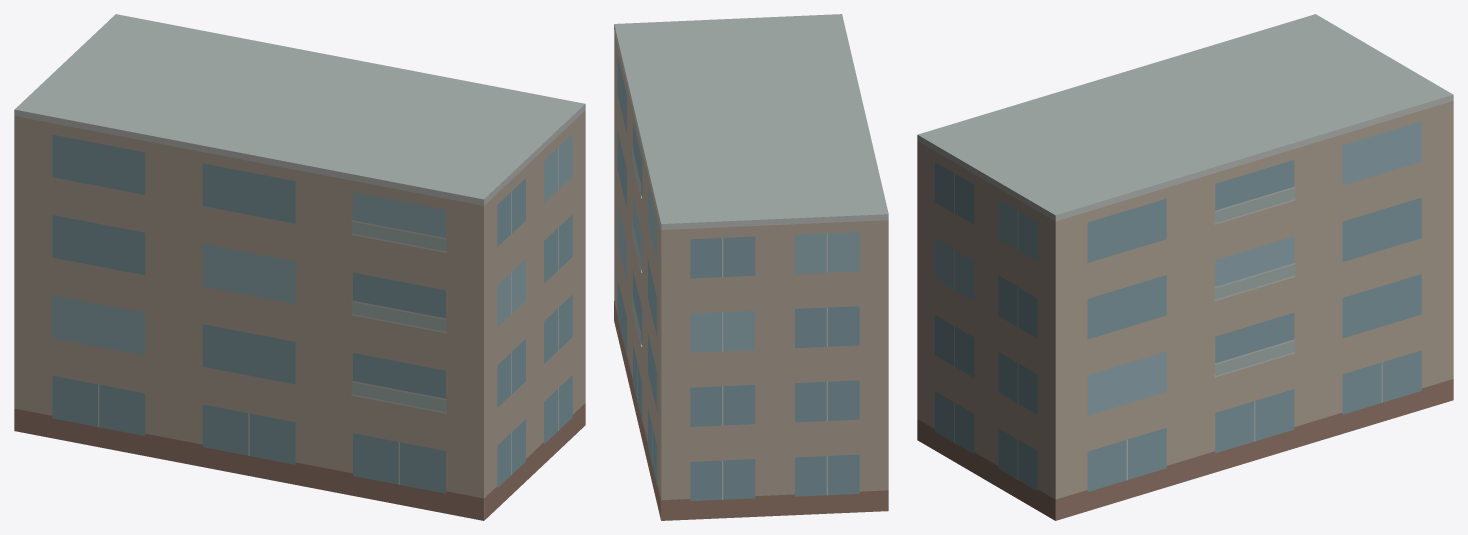
File: survey-upis-32823536.glb
The picture shows the model from 3 angles, left to right: view 1: azimuth 30°, elevation 25°; view 2: azimuth 150°, elevation 25°; view 3: azimuth 270°, elevation 25°; orthographic projection. The views are drawn at different scales.
Parts seen in each view (by area): view 1: survey-upis-32823536.tmp; view 2: survey-upis-32823536.tmp; view 3: survey-upis-32823536.tmp.
Boxes of the visible parts, left/top/right/bottom form: survey-upis-32823536.tmp: left=14, top=14, right=585, bottom=520; survey-upis-32823536.tmp: left=614, top=14, right=888, bottom=520; survey-upis-32823536.tmp: left=917, top=14, right=1453, bottom=520.
Bounding box in the file's own units: 17.26 × 12.2 × 19.41.
